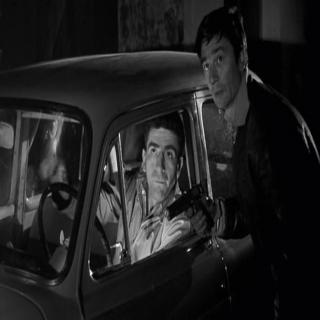gun: (163, 182, 221, 240)
